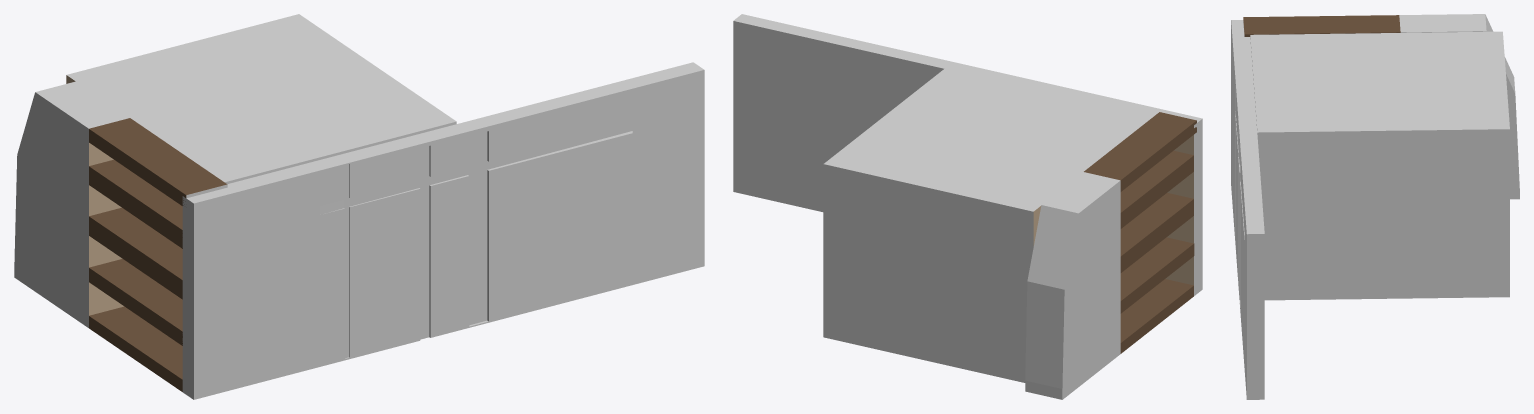
File: LargeWardrobe.fbx
The picture shows the model from 3 angles, left to right: view 1: azimuth 30°, elevation 25°; view 2: azimuth 150°, elevation 25°; view 3: azimuth 270°, elevation 25°; orthographic projection. The views are drawn at different scales.
Parts seen in each view (by area): view 1: LargeWardrobe_LOD0; view 2: LargeWardrobe_LOD0; view 3: LargeWardrobe_LOD0.
Boxes of the visible parts, x1,y1,x2,y2 form: LargeWardrobe_LOD0: (14, 14, 704, 399); LargeWardrobe_LOD0: (733, 14, 1202, 399); LargeWardrobe_LOD0: (1231, 14, 1519, 399).
Size of what is drawn, in the model's own units: 1492 by 538 by 835.
